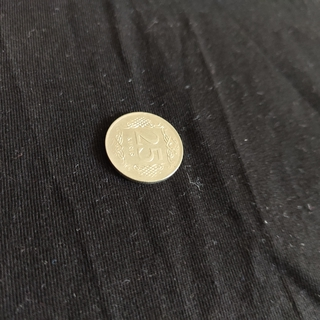25KURUS: (104, 110, 185, 184)
